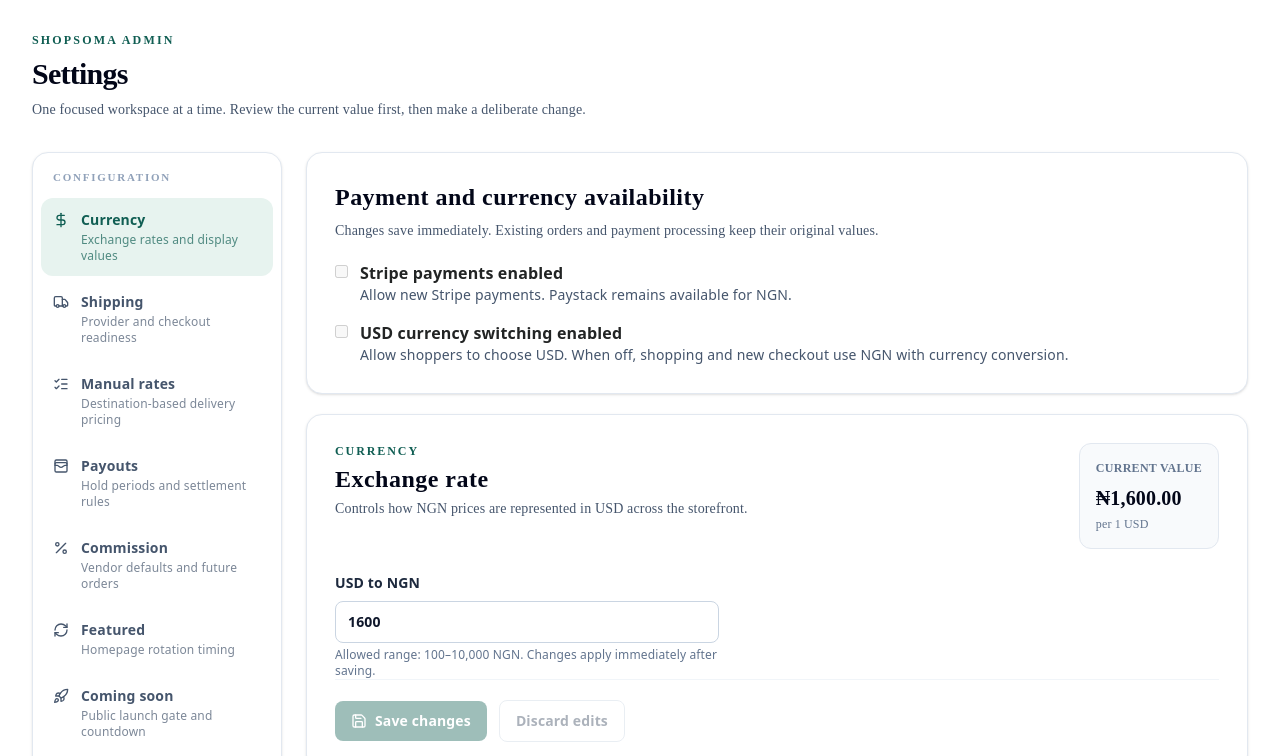
Test: restores preview constraints and renders returned price and ETA
What coordinates should you click on to do the following:
click the button "Manual rates Destination-based delivery pricing"
I would click on:
 (157, 400)
Its box is [41,362,273,440].
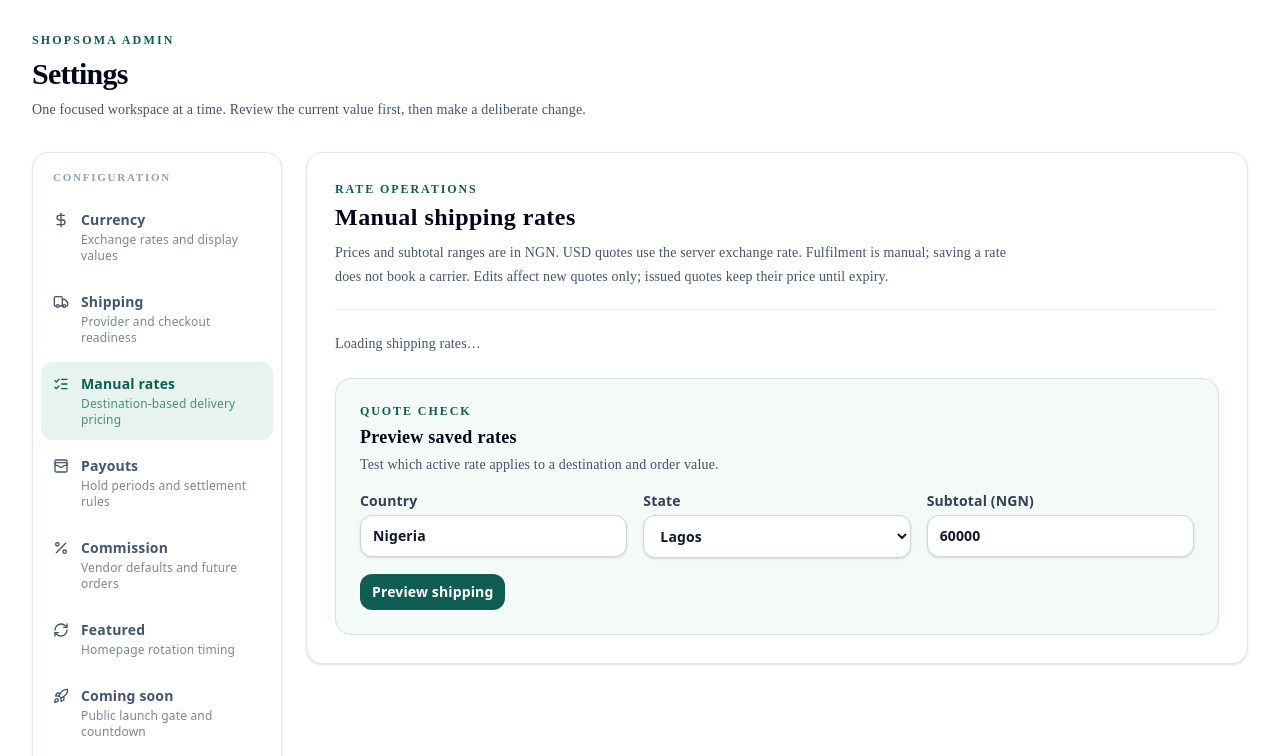
Expected: the number field named "Preview subtotal (NGN)" has attribute type="number", [927,515,1194,557]
Expected: the number field named "Preview subtotal (NGN)" has attribute min="0.01", [927,515,1194,557]
Expected: the number field named "Preview subtotal (NGN)" has attribute step="0.01", [927,515,1194,557]
What coordinates should you click on to do the following:
click the button "Preview shipping"
I would click on:
 (433, 592)
Its box is [360,574,505,610].
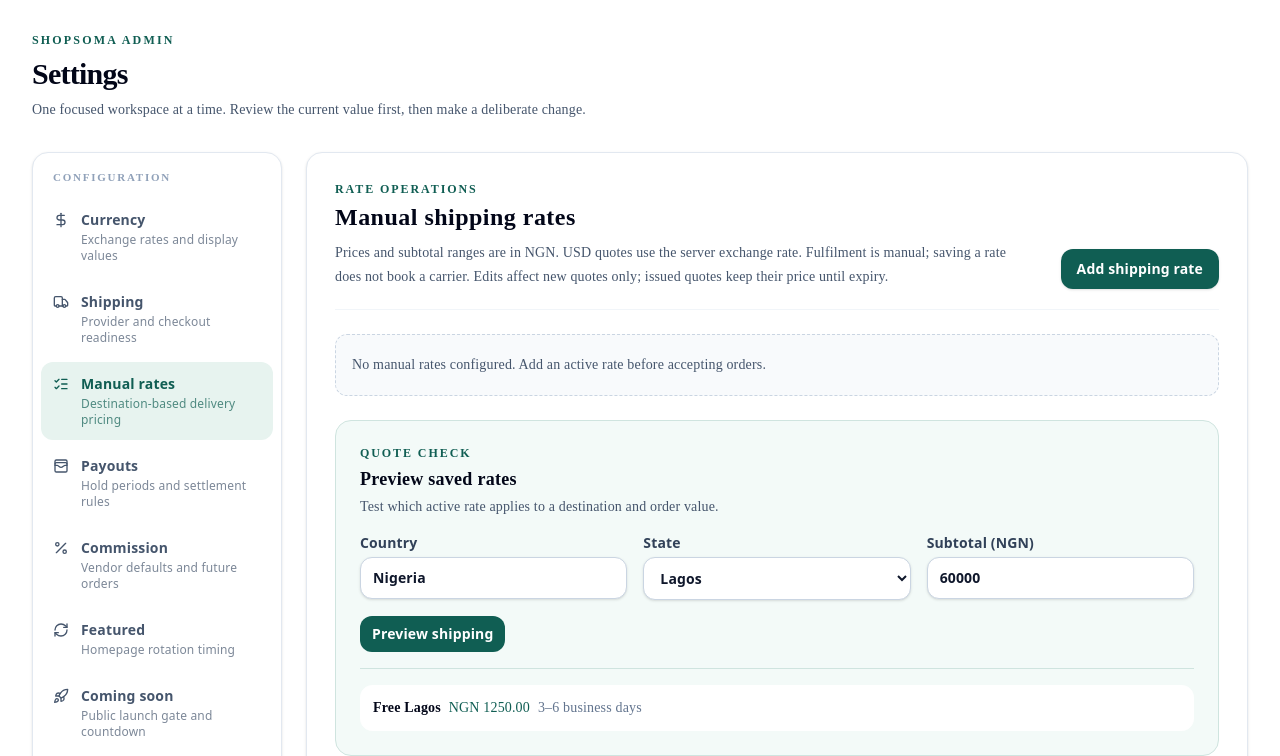
Expected: the list named "Preview results" shows "NGN 1250.00", [360,668,1194,731]
Expected: the list named "Preview results" shows "3–6 business days", [360,668,1194,731]
